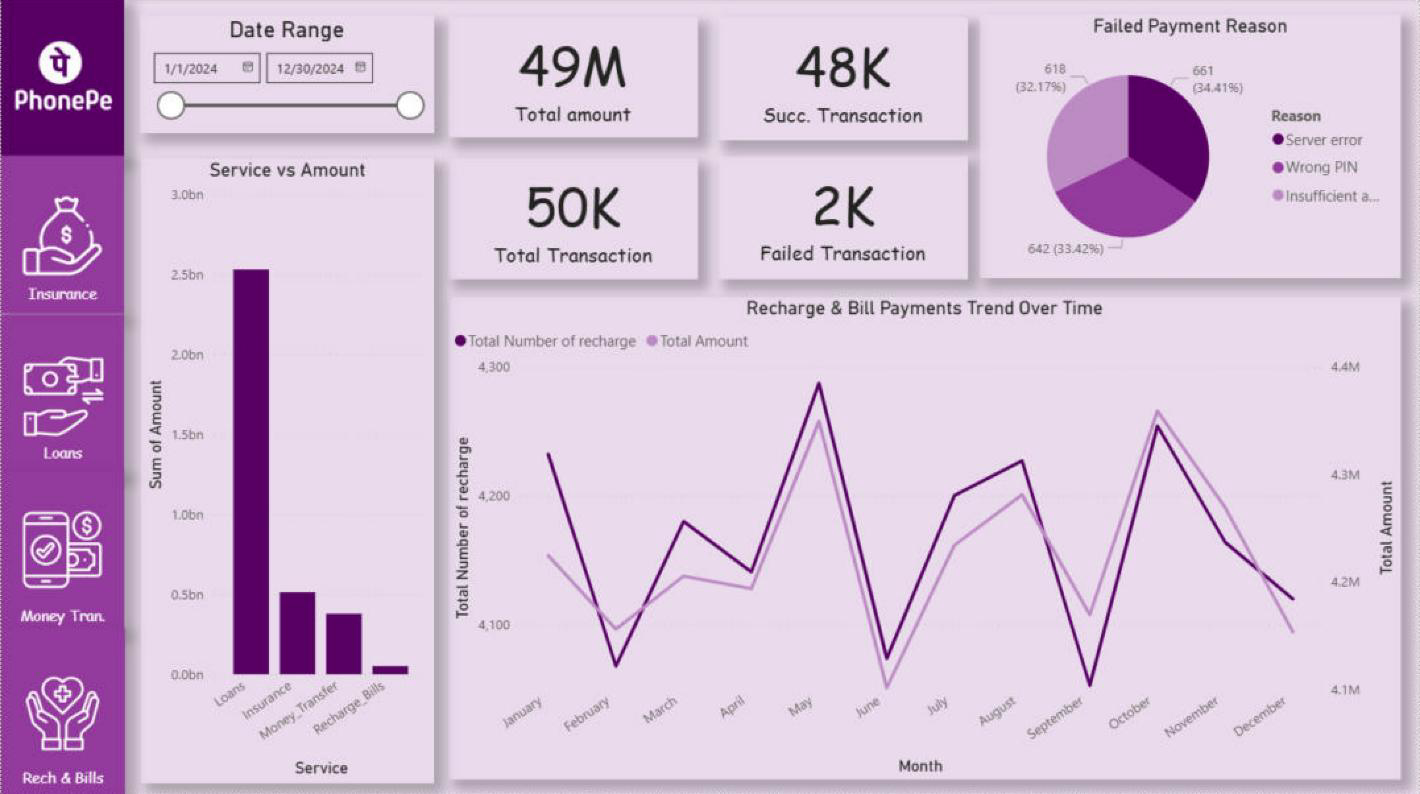

Layout of this report page (visuals, bound fields, positions):
{"tool":"powerbi","page":{"name":"Recharge & Bills","canvas":[1280,720],"ordinal":4},"visuals":[{"type":"shape","box":[0,0,111,142.4],"z":0},{"type":"shape","box":[0,142.4,111,142.4],"z":1000},{"type":"shape","box":[0,284.7,111,142.4],"z":2000},{"type":"shape","box":[0,426.1,111.6,142],"z":3000},{"type":"shape","box":[0,567.6,112,152.8],"z":4000},{"type":"image","box":[0,23.2,111.6,97.1],"z":5000},{"type":"image","box":[1.2,168.9,111,88.1],"z":6000},{"type":"image","box":[0,600.8,111,88.1],"z":7000},{"type":"image","box":[1.2,314.9,111,89.3],"z":8000},{"type":"image","box":[0,452.4,111,90.5],"z":9000},{"type":"textbox","box":[0,252.8,111.1,31.5],"z":10000},{"type":"textbox","box":[0,395.4,112,31.5],"z":11000},{"type":"textbox","box":[0,542.1,111.6,41.7],"z":12000},{"type":"textbox","box":[0,688.6,112,31.5],"z":13000},{"type":"slicer","title":"Date Range","fields":{"Values":["All_Transactions.Date"]},"box":[124.9,15.6,265.4,105.7],"z":14000},{"type":"card","title":"Date Range","fields":{"Values":["Sum(All_Transactions.Amount)"]},"box":[403.4,17,224.5,108.8],"z":15000},{"type":"card","title":"Date Range","fields":{"Values":["Count(All_Transactions.Transaction_ID)"]},"box":[403.4,144.2,224.5,108.8],"z":16000},{"type":"card","title":"Date Range","fields":{"Values":["Count(All_Transactions.Transaction_ID)"]},"box":[646.9,17,224.5,110.9],"z":17000},{"type":"card","title":"Date Range","fields":{"Values":["Count(All_Transactions.Transaction_ID)"]},"box":[646.9,141.5,224.5,110.9],"z":18000},{"type":"pieChart","title":"Failed Payment Reason ","fields":{"Category":["All_Transactions.Reason"],"Y":["CountNonNull(All_Transactions.Reason)"]},"box":[882.3,15.1,380.1,237.4],"z":19000},{"type":"lineChart","title":"Recharge & Bill Payments Trend Over Time ","fields":{"Category":["Recharge_Bills.Date.Variation.Date Hierarchy.Month"],"Y":["CountNonNull(Recharge_Bills.Recharge_Type)"],"Y2":["Sum(Recharge_Bills.Amount)"]},"box":[403,269,859,435.5],"z":20000},{"type":"columnChart","title":"Service vs Amount ","fields":{"Y":["Sum(All_Transactions.Amount)"],"Category":["All_Transactions.Service"]},"box":[126.1,144.1,264.2,563.2],"z":21000},{"type":"actionButton","box":[0,144.1,111.1,140],"z":22000},{"type":"actionButton","box":[0,284,111.1,140],"z":23000},{"type":"actionButton","box":[1.1,426.1,111.6,139.8],"z":24000},{"type":"actionButton","box":[1.4,569.5,111.1,150.9],"z":25000},{"type":"actionButton","box":[0,0,111.1,140],"z":26000}]}

Visuals, with their boxes in screenshot pixels (x1, y1, x2, y2), scaled from the page's 1280x720 canvas onto the 1420x794 screenshot:
shape: left=0, top=0, right=123, bottom=157
shape: left=0, top=157, right=123, bottom=314
shape: left=0, top=314, right=123, bottom=471
shape: left=0, top=470, right=124, bottom=626
shape: left=0, top=626, right=124, bottom=793
image: left=0, top=26, right=124, bottom=133
image: left=1, top=186, right=124, bottom=283
image: left=0, top=663, right=123, bottom=760
image: left=1, top=347, right=124, bottom=446
image: left=0, top=499, right=123, bottom=599
textbox: left=0, top=279, right=123, bottom=314
textbox: left=0, top=436, right=124, bottom=471
textbox: left=0, top=598, right=124, bottom=644
textbox: left=0, top=759, right=124, bottom=793
"Date Range" slicer: left=139, top=17, right=433, bottom=134
"Date Range" card: left=448, top=19, right=697, bottom=139
"Date Range" card: left=448, top=159, right=697, bottom=279
"Date Range" card: left=718, top=19, right=967, bottom=141
"Date Range" card: left=718, top=156, right=967, bottom=278
"Failed Payment Reason " pieChart: left=979, top=17, right=1400, bottom=278
"Recharge & Bill Payments Trend Over Time " lineChart: left=447, top=297, right=1400, bottom=777
"Service vs Amount " columnChart: left=140, top=159, right=433, bottom=780
actionButton: left=0, top=159, right=123, bottom=313
actionButton: left=0, top=313, right=123, bottom=468
actionButton: left=1, top=470, right=125, bottom=624
actionButton: left=2, top=628, right=125, bottom=793
actionButton: left=0, top=0, right=123, bottom=154
